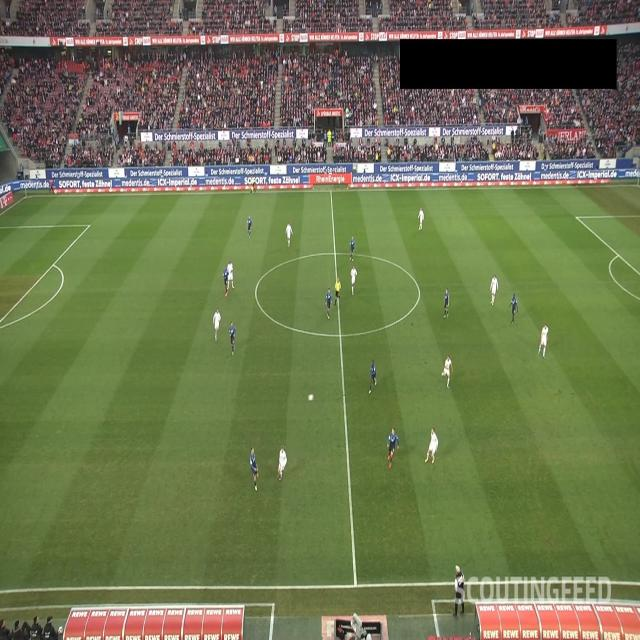ball: (308, 393, 314, 402)
